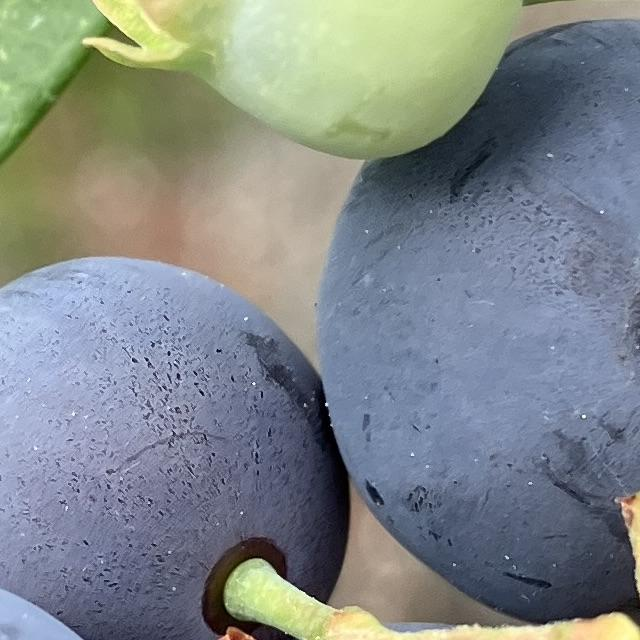Blueberries: (312, 3, 640, 625)
